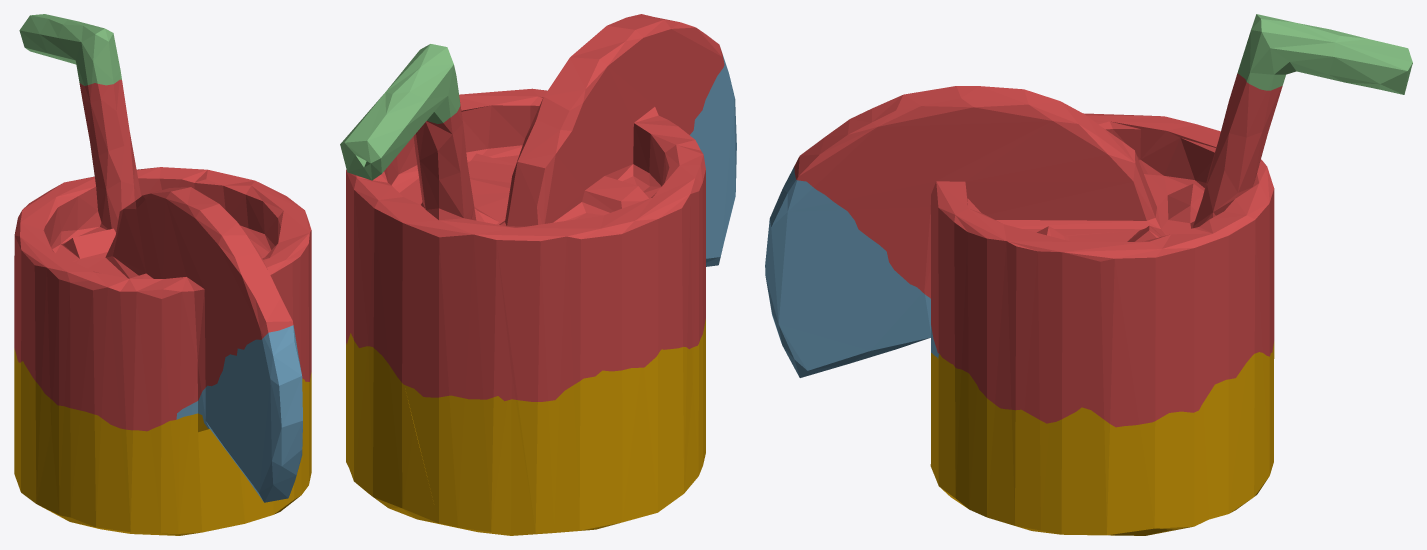
Rendered from mode_3_4pcs.glb.
3 renders of one model, left to right at view 1: azimuth 30°, elevation 25°; view 2: azimuth 150°, elevation 25°; view 3: azimuth 270°, elevation 25°, orthographic. The views are drawn at different scales.
Visible parts, largest first — view 1: piece_1.obj, piece_0.obj, piece_2.obj, piece_3.obj; view 2: piece_1.obj, piece_0.obj, piece_3.obj, piece_2.obj; view 3: piece_1.obj, piece_0.obj, piece_2.obj, piece_3.obj.
Part boxes in pixels (x1,y1,x2,y2): piece_1.obj: (14, 79, 311, 431); piece_0.obj: (14, 348, 311, 535); piece_2.obj: (176, 325, 302, 502); piece_3.obj: (19, 14, 121, 85); piece_1.obj: (346, 14, 724, 401); piece_0.obj: (346, 319, 705, 535); piece_3.obj: (340, 44, 460, 180); piece_2.obj: (690, 56, 736, 266); piece_1.obj: (794, 73, 1282, 427); piece_0.obj: (930, 341, 1274, 535); piece_2.obj: (765, 166, 939, 377); piece_3.obj: (1237, 14, 1412, 94).
Size of the model in its own units: 0.5301 by 0.7756 by 1.
